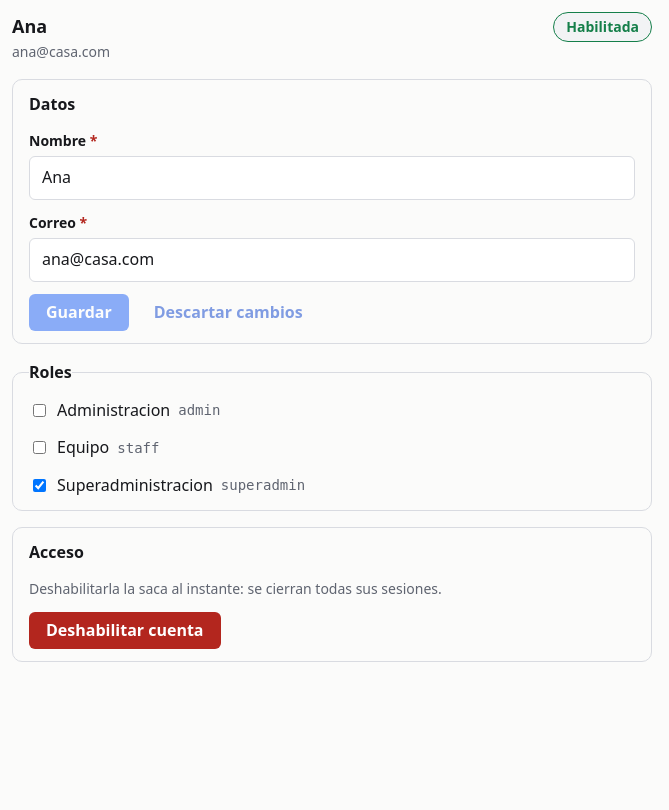
Test case: FichaDeCuenta › quitarle superadmin al ultimo muestra el mensaje del servidor y la casilla sigue marcada
Click the checkbox labelled "Superadministracion superadmin": (40, 486) [33, 479, 46, 492]
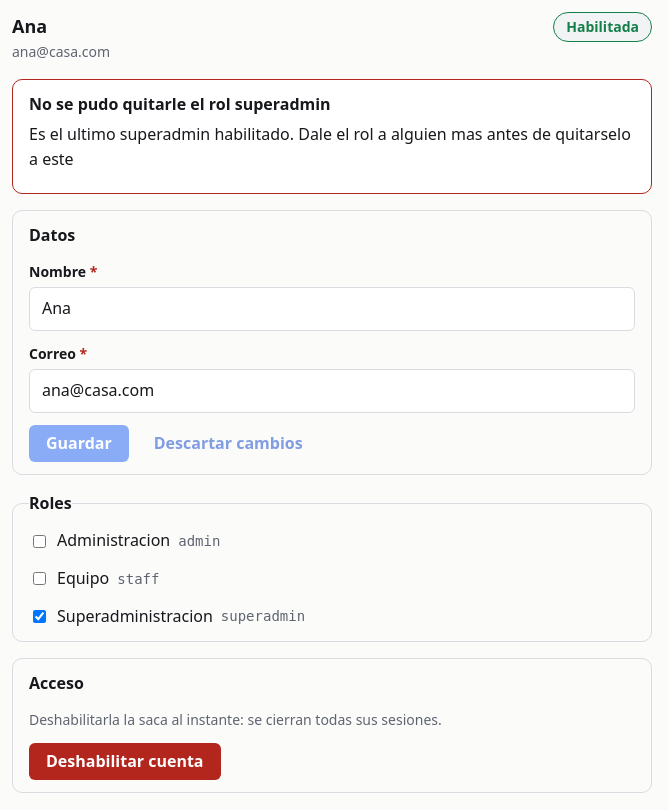
Check: the checkbox labelled "Superadministracion superadmin" is checked, box [33, 610, 46, 623]
Check: the message shows "Dale el rol a alguien mas", box [29, 123, 631, 170]
